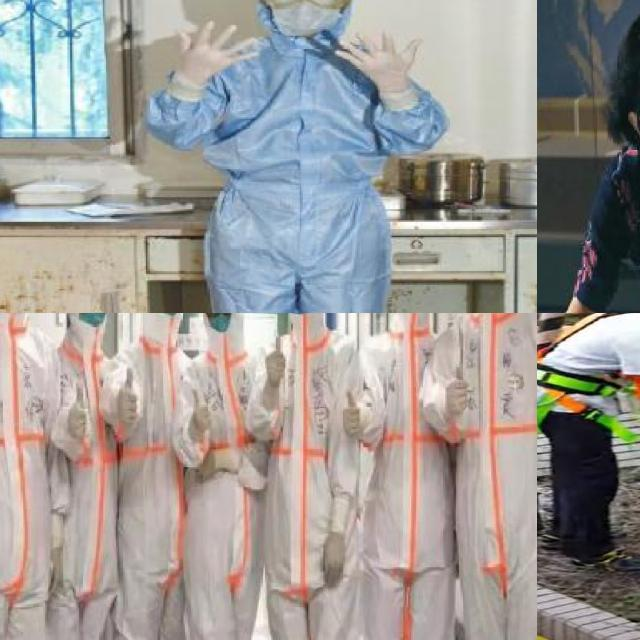Harness: (537, 313, 640, 443)
face_mask: (272, 0, 338, 35), (203, 313, 237, 337), (77, 313, 109, 329)
glasses: (258, 0, 353, 14), (205, 313, 234, 319)
hand_glove: (174, 19, 261, 82), (340, 34, 430, 85), (66, 380, 90, 444), (187, 388, 216, 437), (441, 366, 468, 418), (118, 366, 140, 428), (321, 532, 346, 586), (342, 386, 364, 444), (267, 334, 288, 389)
person: (152, 0, 452, 313), (260, 313, 361, 640), (371, 313, 463, 640), (186, 313, 271, 640), (51, 313, 132, 640), (556, 0, 640, 313), (460, 313, 537, 640), (121, 313, 194, 640), (0, 313, 49, 640)
